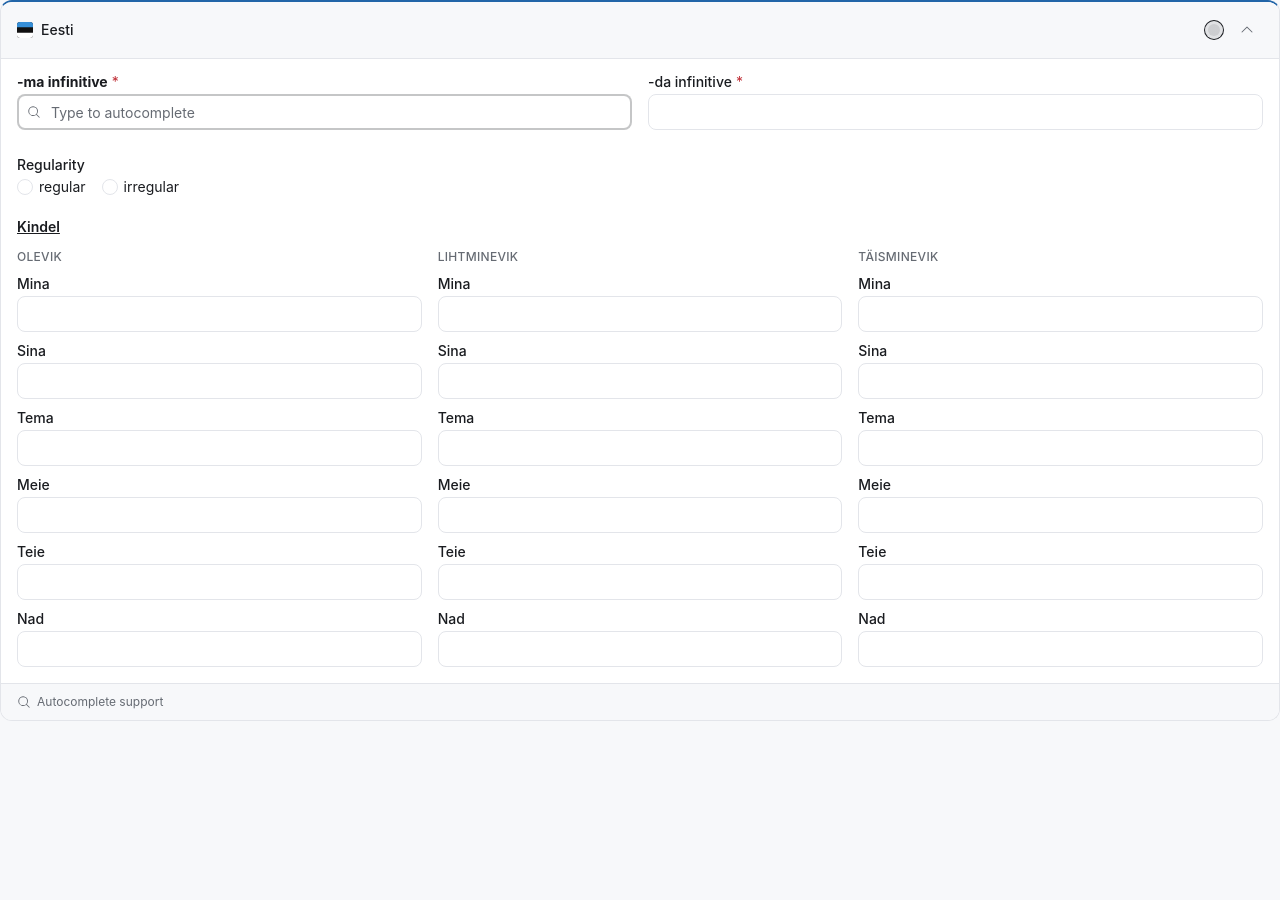
Test: TranslationCard — Verb › mounts an Estonian verb card whose infinitiveMa must end in -ma
Check: the text "Kindel" is shown, box [17, 218, 60, 235]
In the dropdown labelled "-ma infinitive": (324, 112) [17, 94, 632, 130], type "dance"
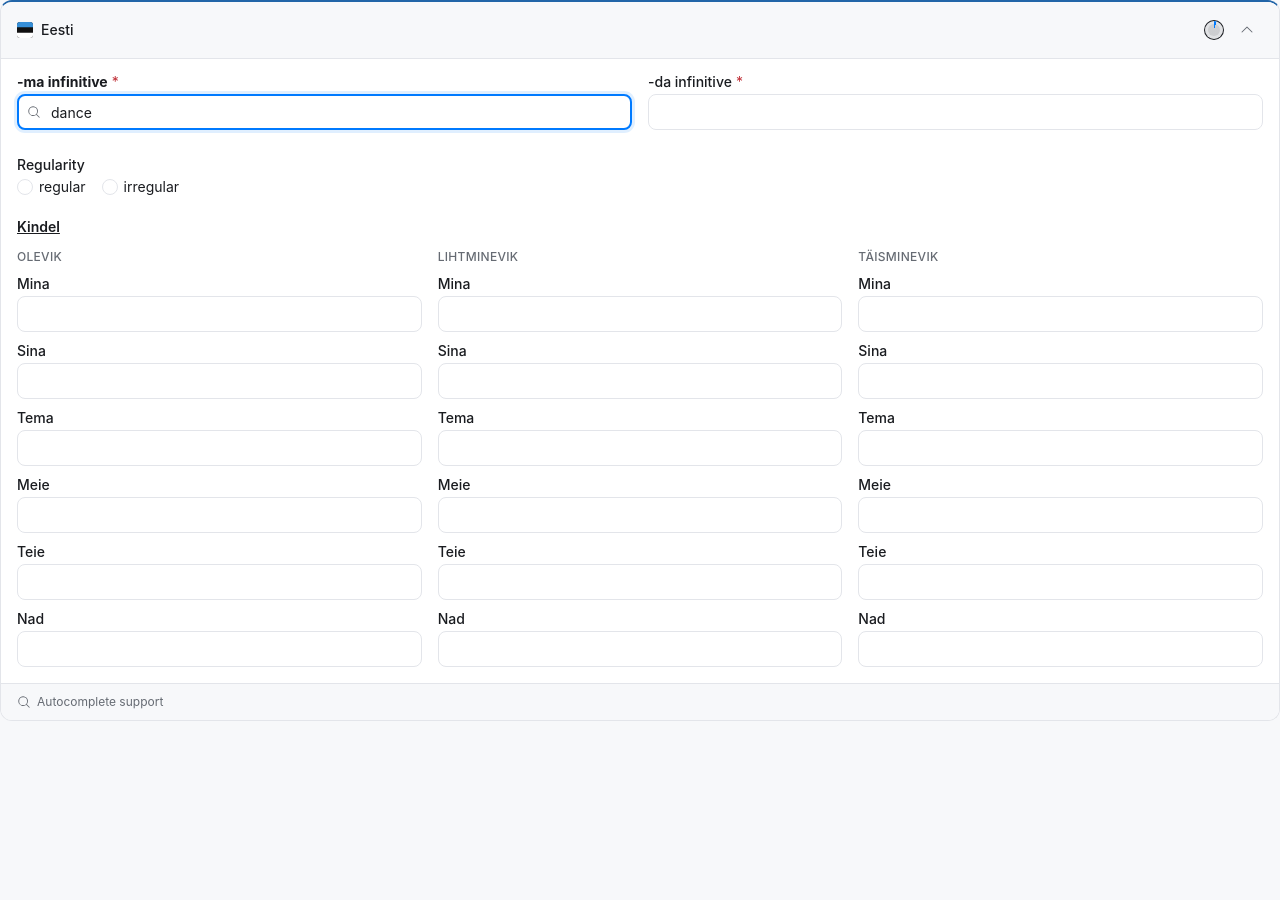
Press Tab
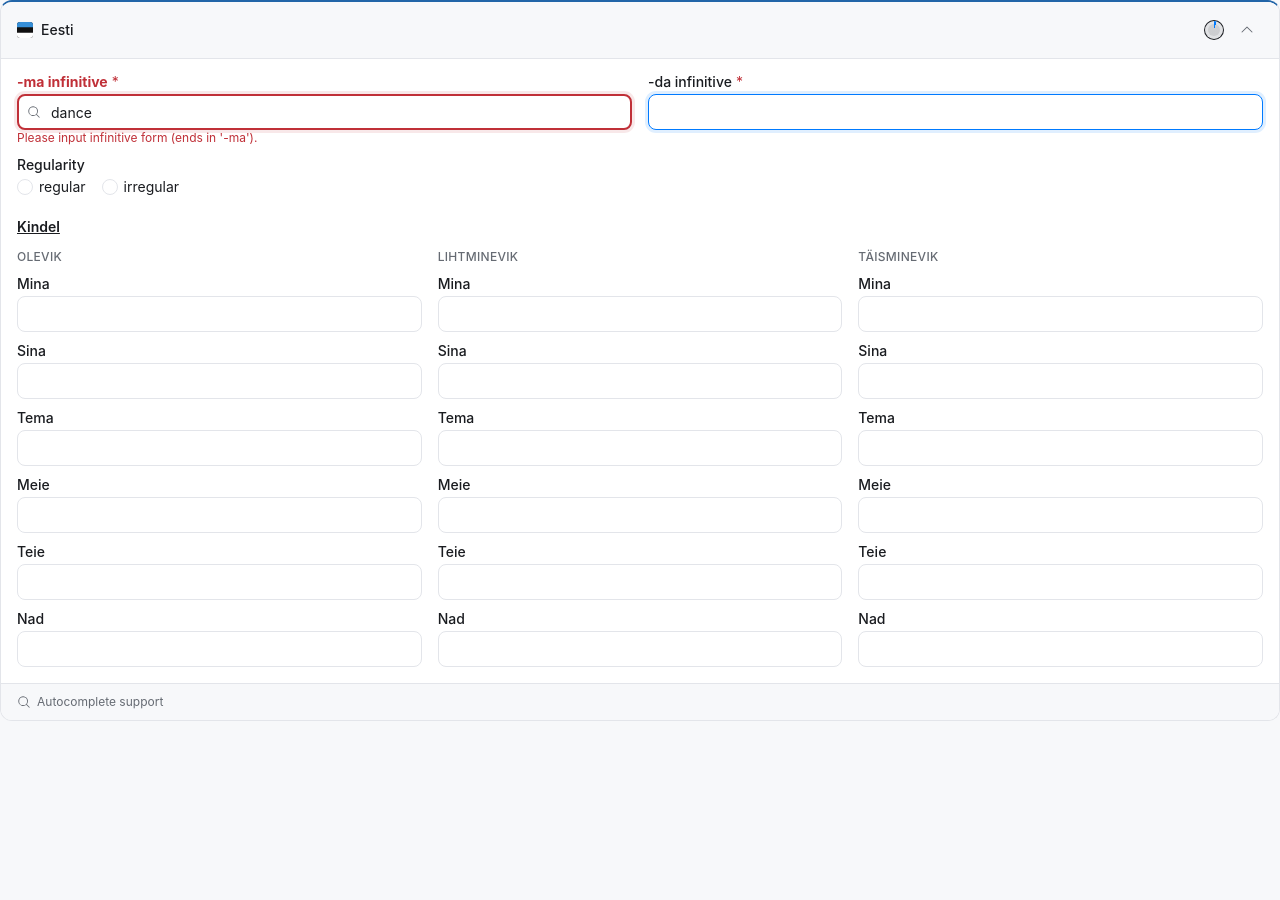
Check: the text "Please input infinitive form (ends in '-ma')." is shown, box [17, 130, 257, 145]
